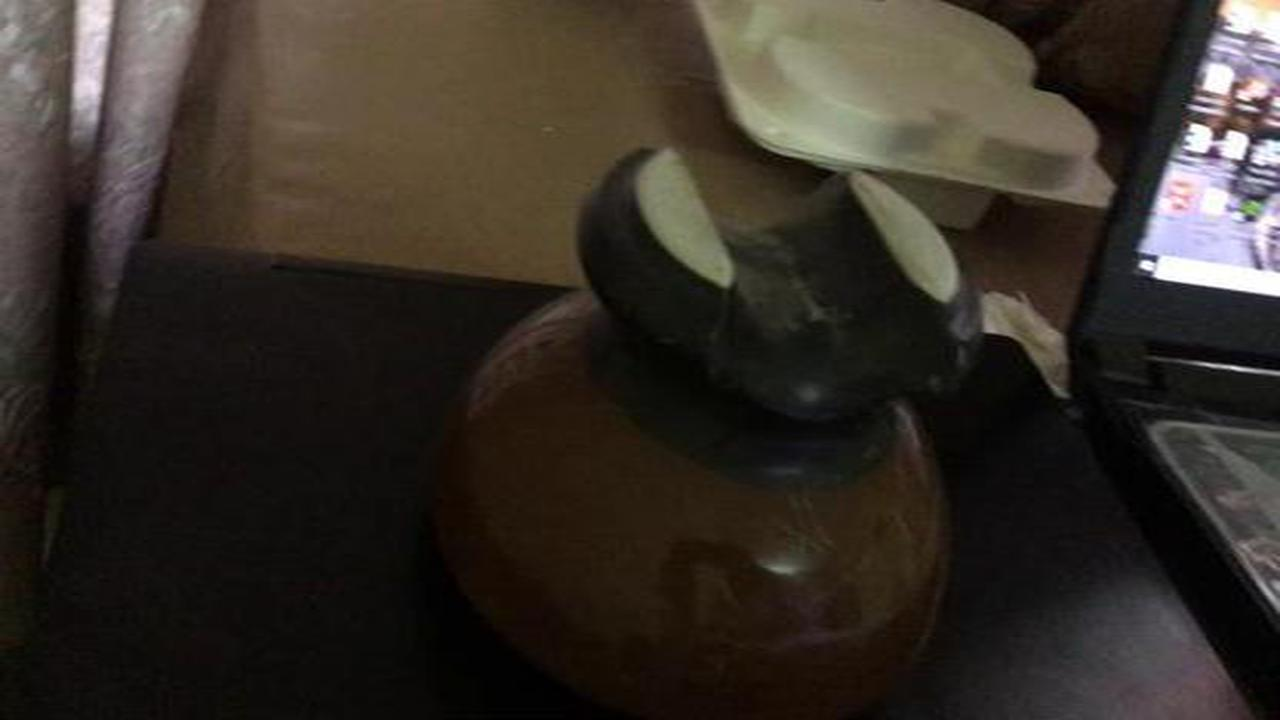insulator_pin: (404, 127, 1004, 712)
